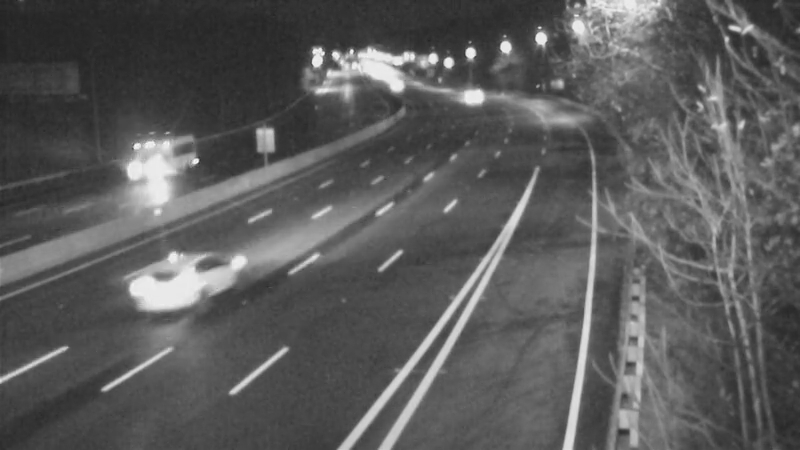vehicle: (122, 249, 202, 329), (109, 137, 189, 217), (443, 70, 493, 120)
